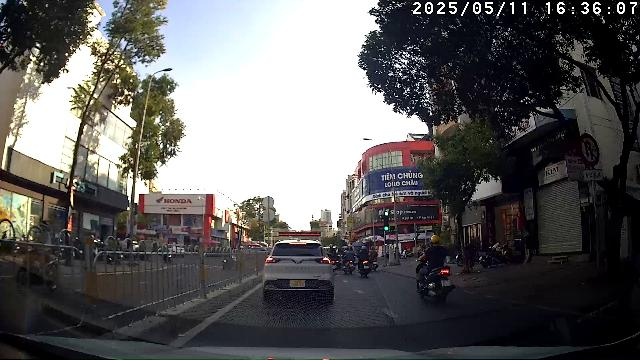124b-cam-oto-quay-dau-xe: (579, 133, 600, 166)
